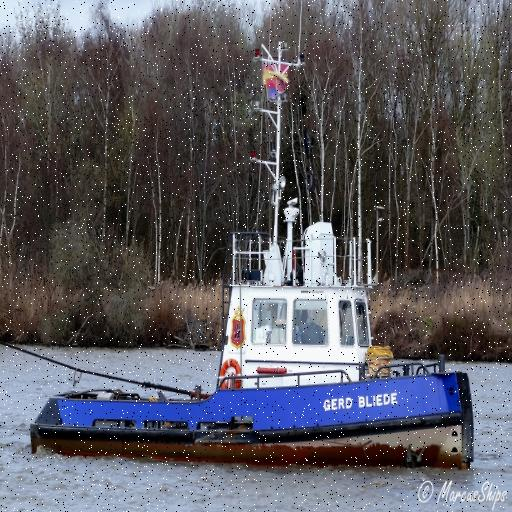tugboat: (32, 40, 477, 476)
